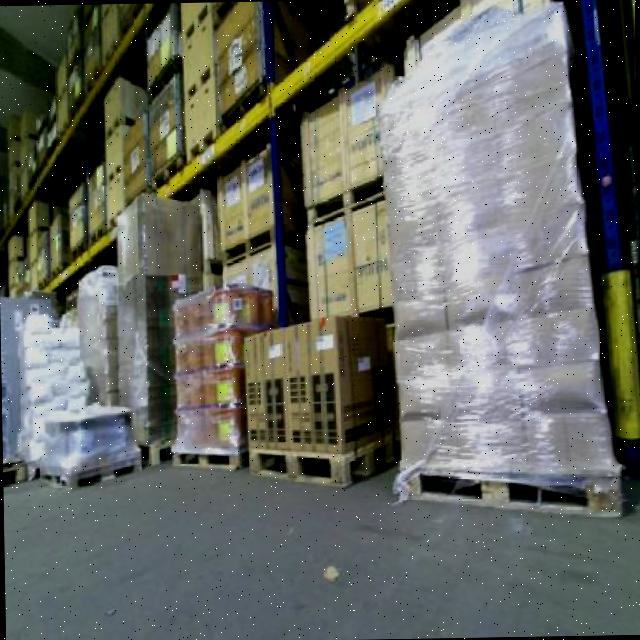pallet: (389, 451, 627, 532), (238, 442, 384, 492), (64, 448, 144, 493), (168, 441, 242, 470), (181, 126, 220, 162)
